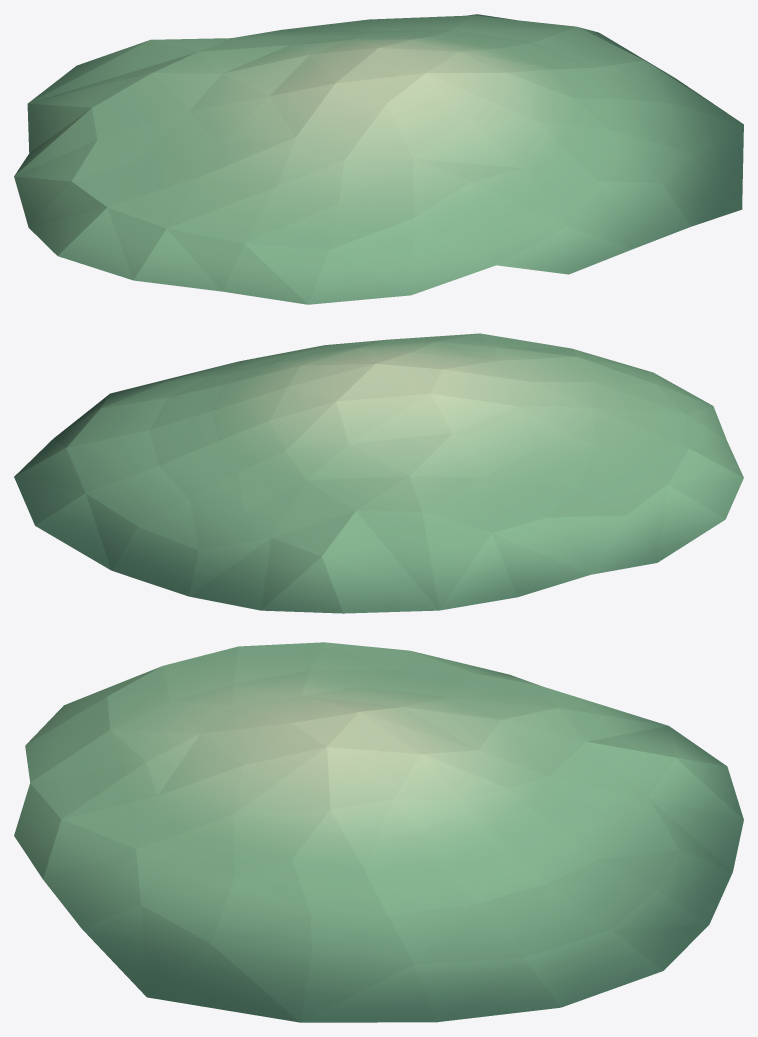
The model's file is Top_04_01.fbx.
3 renders of one model, top to bottom at view 1: azimuth 30°, elevation 25°; view 2: azimuth 150°, elevation 25°; view 3: azimuth 270°, elevation 25°, orthographic. The views are drawn at different scales.
Parts seen in each view (by area): view 1: Top_04; view 2: Top_04; view 3: Top_04.
Part boxes in pixels (x1,y1,x2,y2): Top_04: (14, 14, 743, 304); Top_04: (14, 333, 743, 613); Top_04: (14, 642, 743, 1022).
Bounding box in the file's own units: 1.97 × 0.36 × 1.76.
